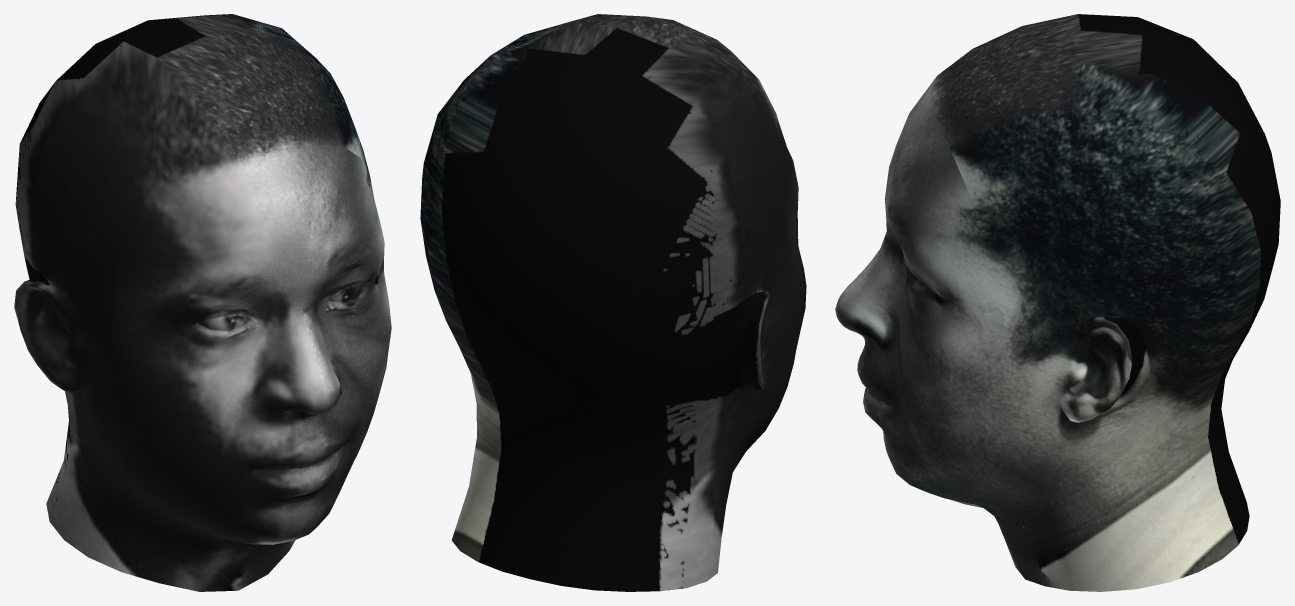
File: coltrane.glb
The picture shows the model from 3 angles, left to right: view 1: azimuth 30°, elevation 25°; view 2: azimuth 150°, elevation 25°; view 3: azimuth 270°, elevation 25°; orthographic projection.
Parts seen in each view (by area): view 1: FBHead; view 2: FBHead; view 3: FBHead.
Boxes of the visible parts, x1,y1,x2,y2 form: FBHead: [14, 14, 391, 591]; FBHead: [420, 14, 806, 591]; FBHead: [835, 14, 1280, 591].
Bounding box in the file's own units: 1.58 × 2.45 × 1.85.
Materials: 1 (1 with a texture image).
